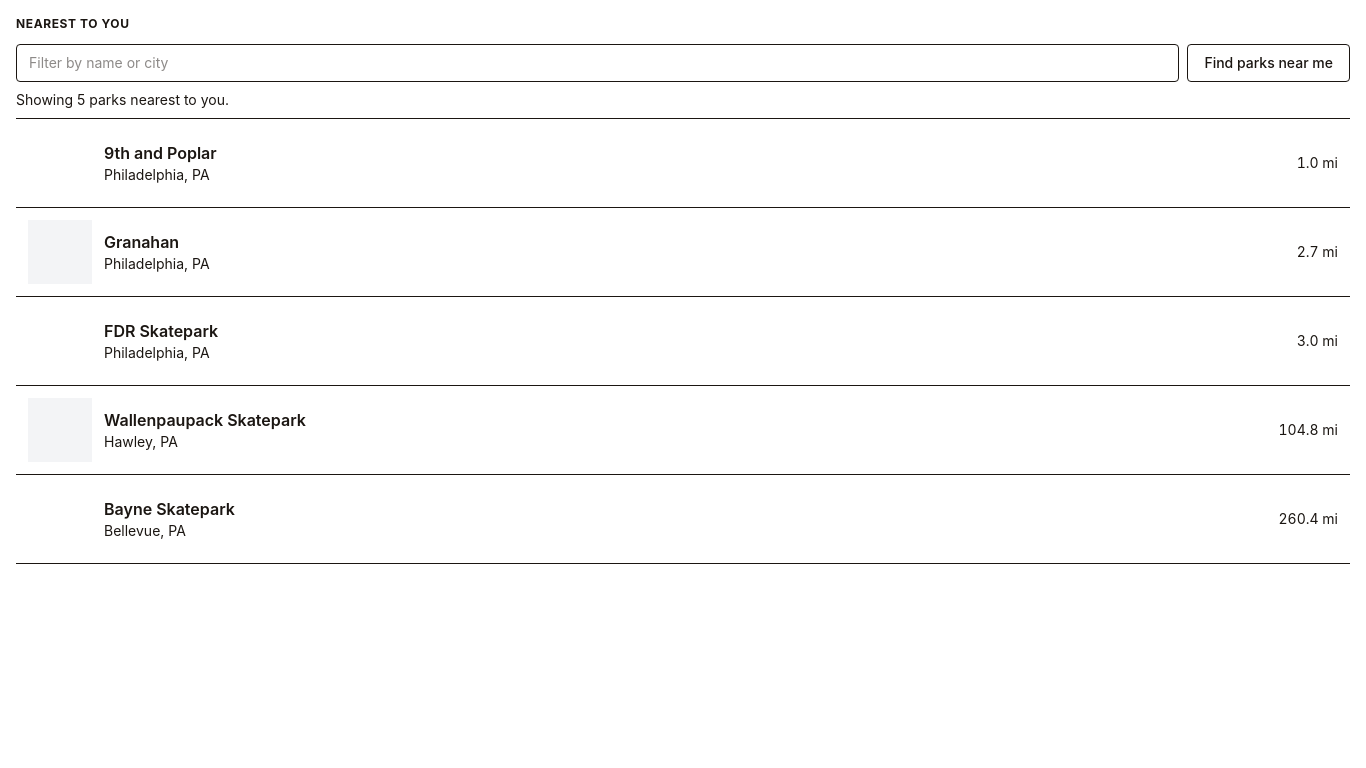
Test: HomeParkList › CMT-2: filter + sort compose › filter narrows the set; userLocation sorts within it
Type "philadelphia" into the search field with placeholder "Filter by name or city" at (598, 63), box [16,44,1179,82]
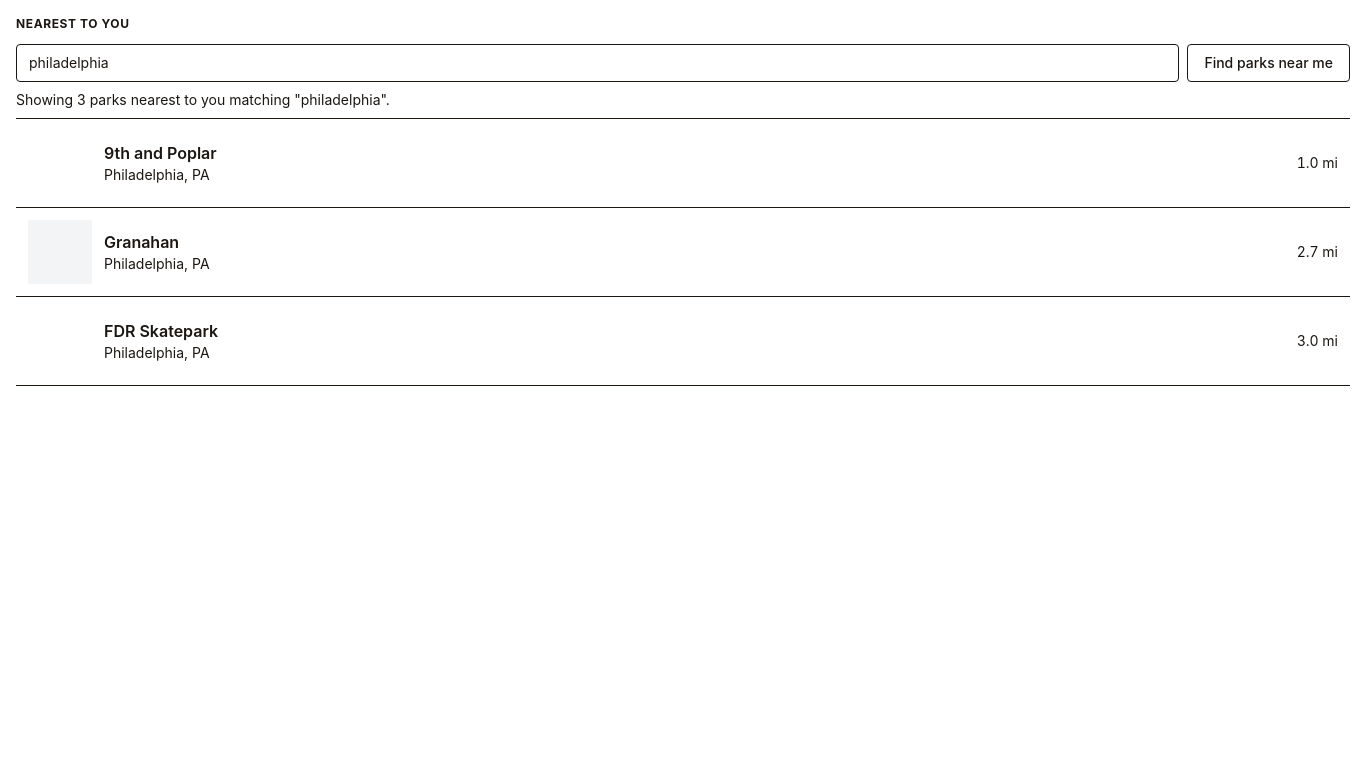
Expected: the list item "9th and Poplar Philadelphia, PA 1.0 mi" is shown, [16,119,1350,207]
Expected: the number of list items is 3, [16,119,1350,207]; [16,207,1350,296]; [16,296,1350,385]
